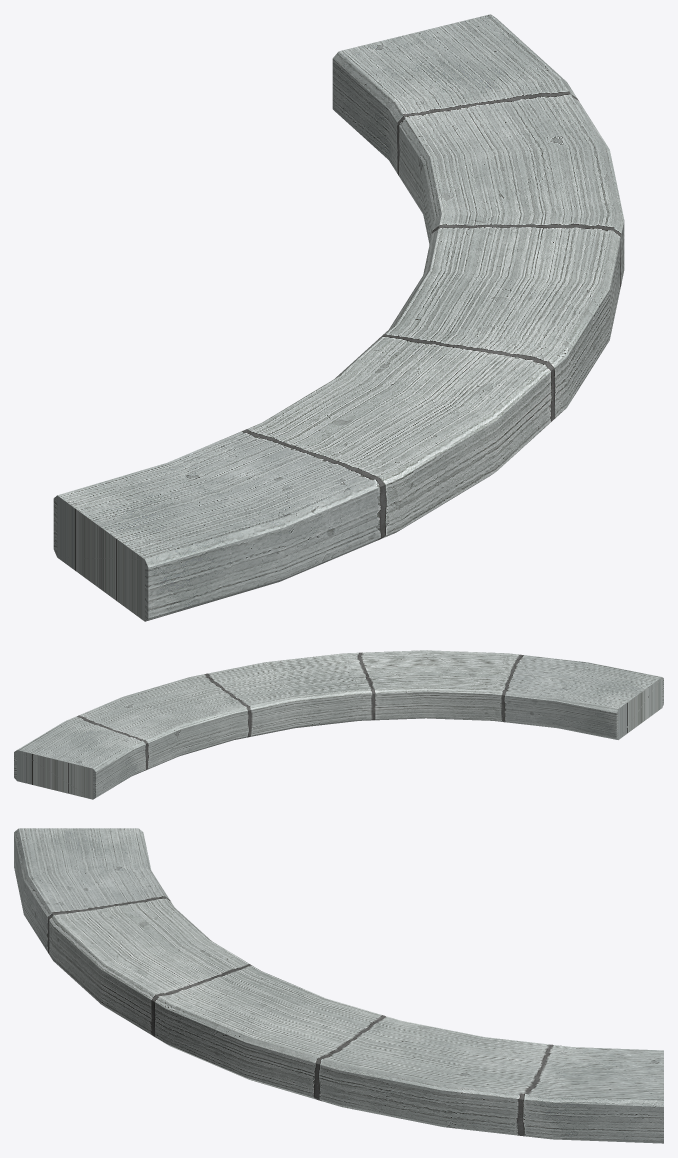
The model's file is AlleywayBeamB_Unwrap.fbx.
3 views of the same model, one above another, from view 1: azimuth 30°, elevation 25°; view 2: azimuth 150°, elevation 25°; view 3: azimuth 270°, elevation 25° (orthographic). The views are drawn at different scales.
Visible parts, largest first — view 1: AlleywayBeamB; view 2: AlleywayBeamB; view 3: AlleywayBeamB.
Boxes of the visible parts, x1,y1,x2,y2 form: AlleywayBeamB: (53, 14, 624, 621); AlleywayBeamB: (14, 650, 663, 799); AlleywayBeamB: (14, 828, 663, 1143).
Bounding box in the file's own units: 1068 × 77.01 × 1068.
Materials: 1 (1 with a texture image).
